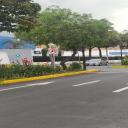NoVirarU: (44, 46, 62, 56)
